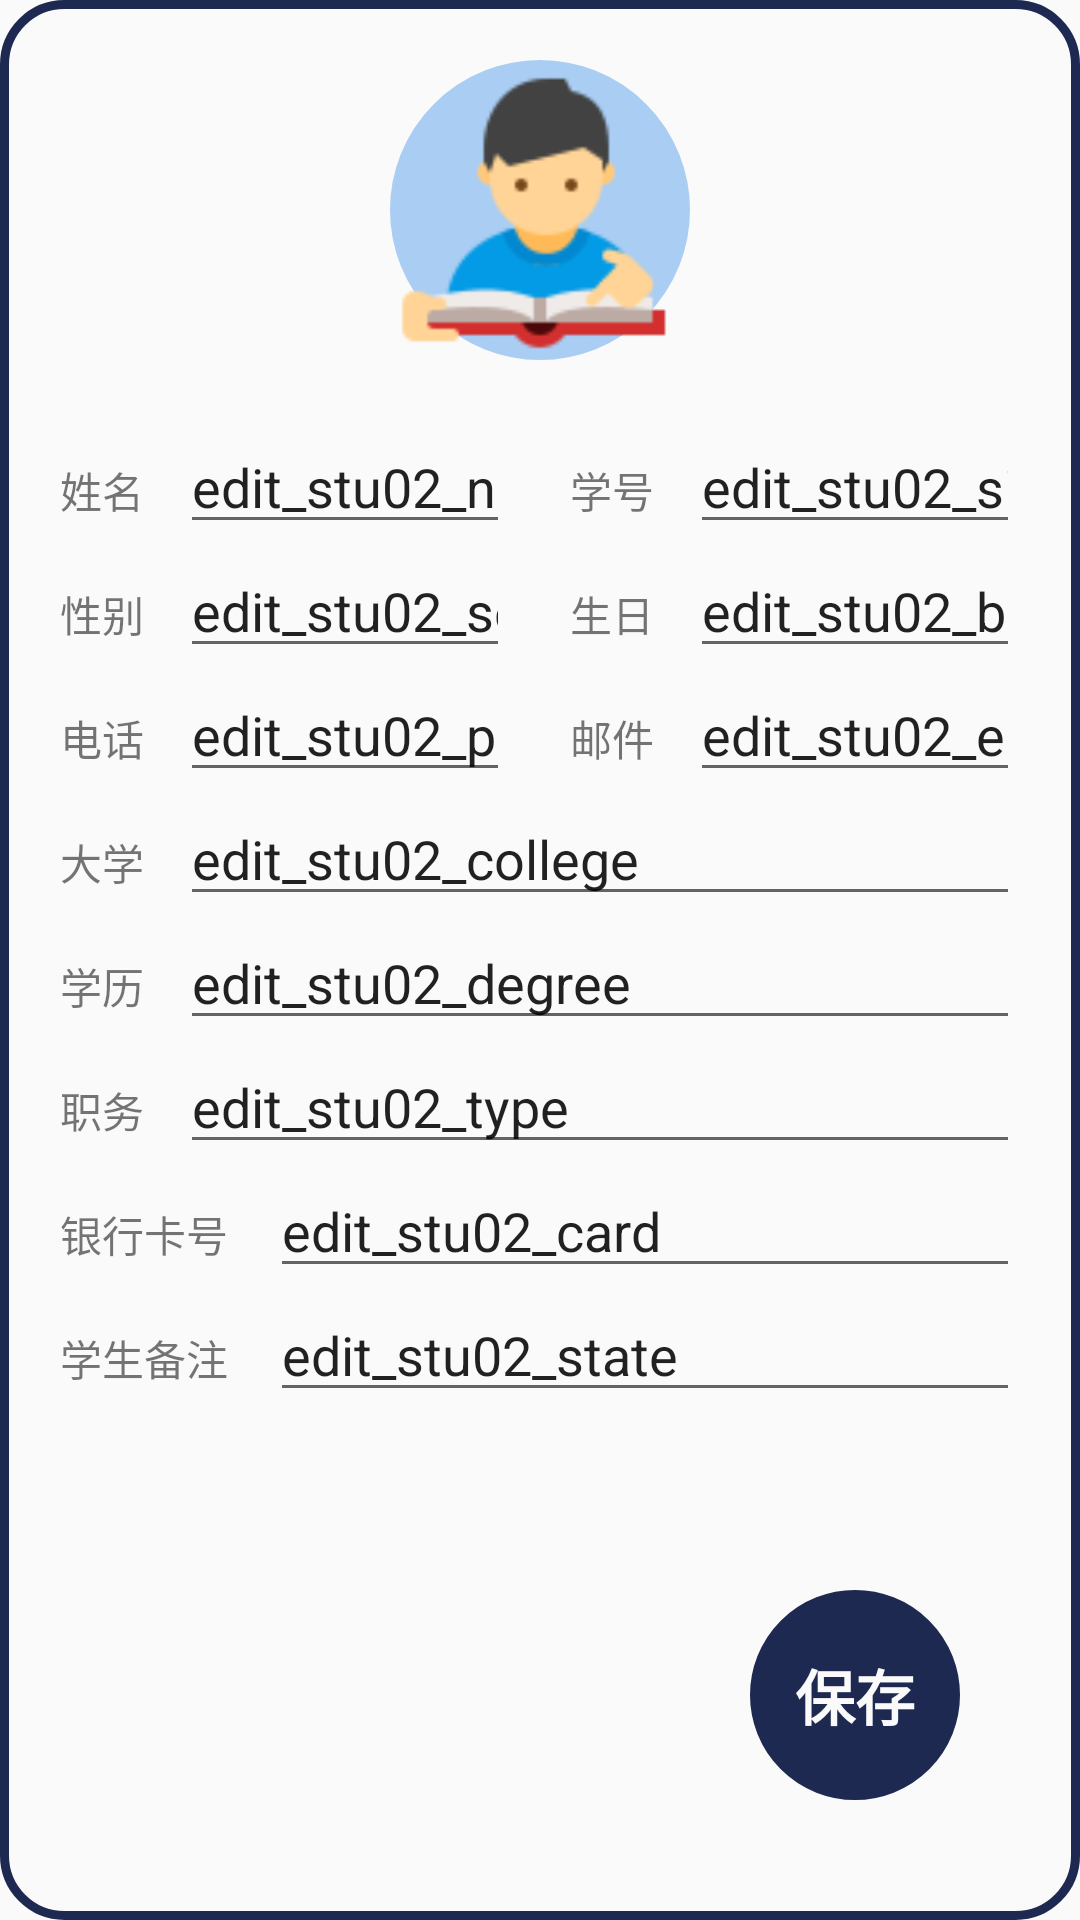

Icon bounding boxes for this 1080*1920 phone screenshot, format (x1, y1, x2, y2):
student: (390, 60, 690, 360)
